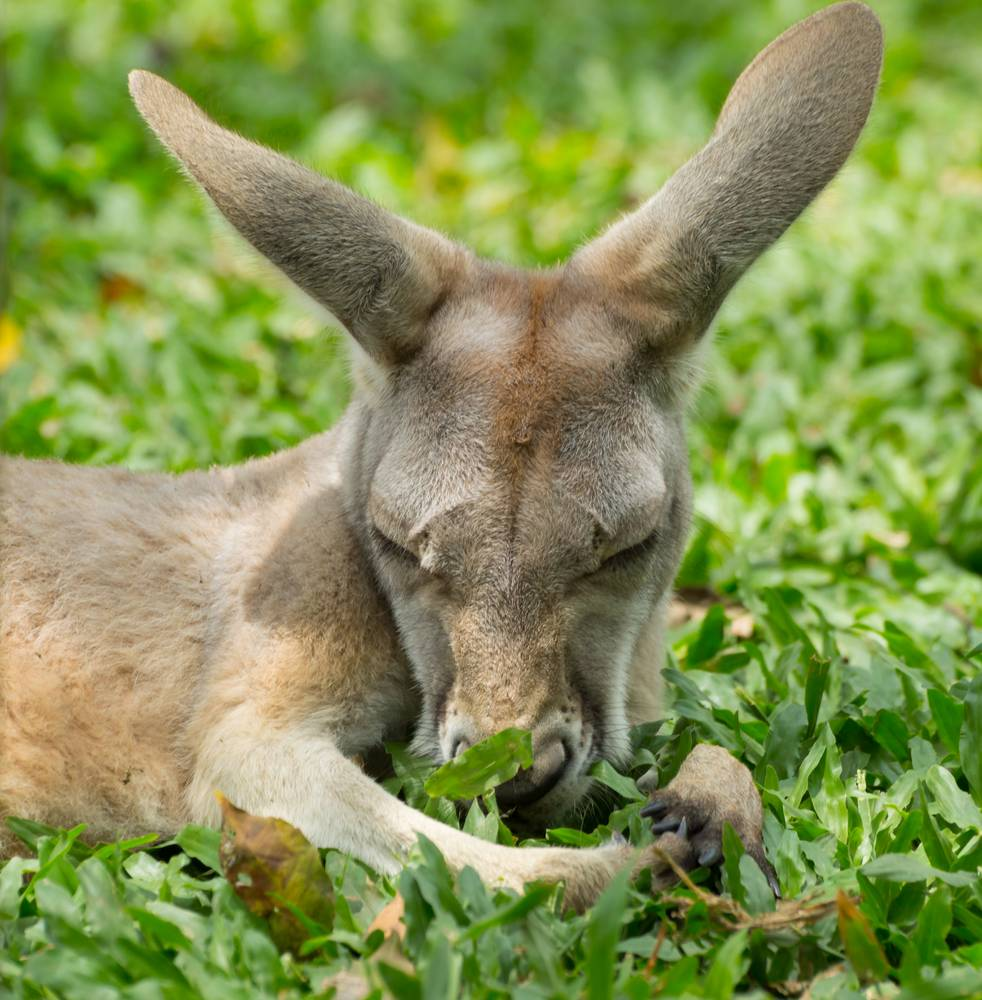kangaroo: (5, 5, 891, 941)
